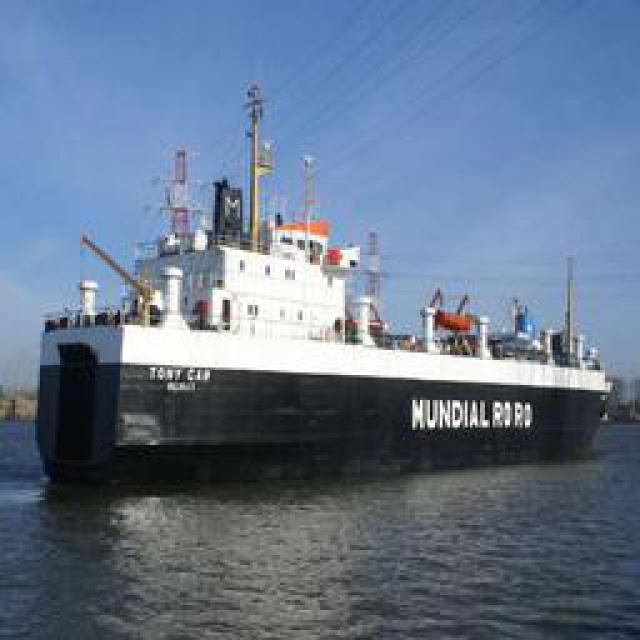Ship: (26, 85, 621, 480)
